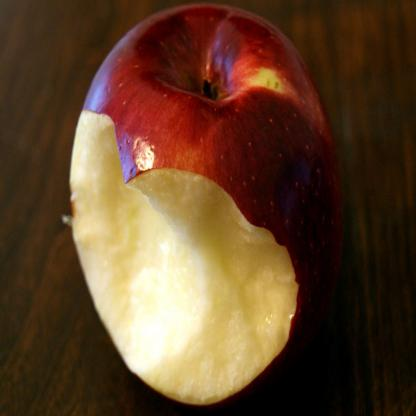Apple: (68, 0, 346, 408)
